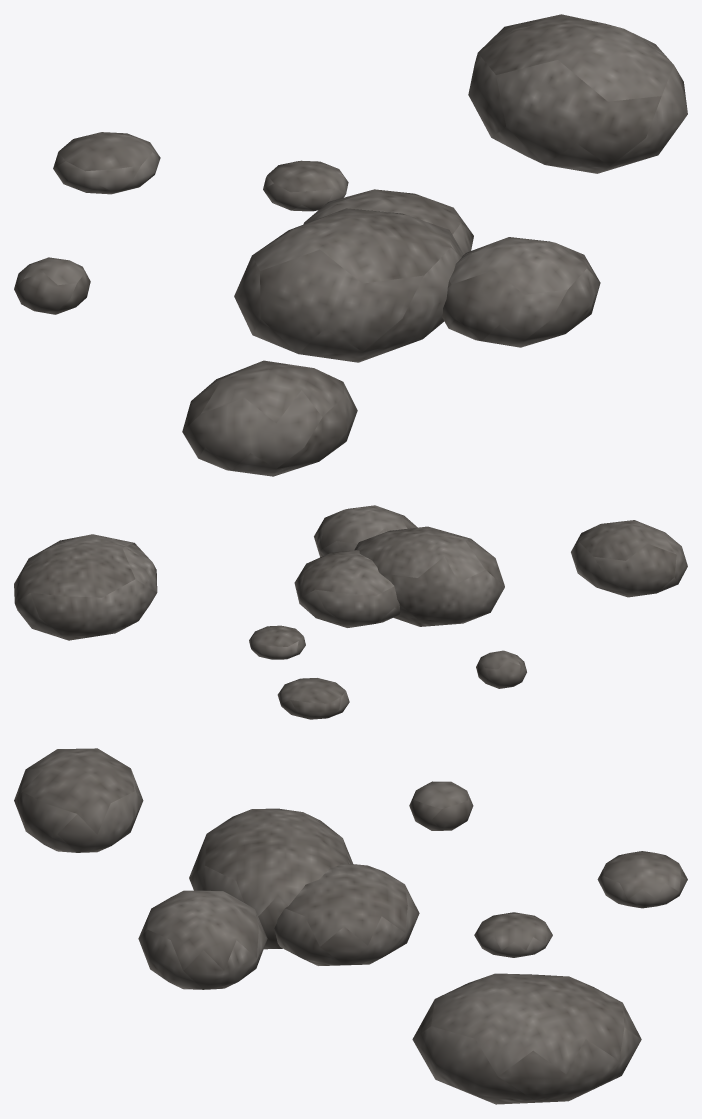
Rendered from pebble_cluster_3.glb.
3 renders of one model, top to bottom at view 1: azimuth 30°, elevation 25°; view 2: azimuth 150°, elevation 25°; view 3: azimuth 270°, elevation 25°, orthographic. The views are drawn at different scales.
Parts seen in each view (by area): view 1: pebble_cluster_3; view 2: pebble_cluster_3; view 3: pebble_cluster_3.
Part boxes in pixels (<box>): pebble_cluster_3: <box>14,14,687,476</box>; pebble_cluster_3: <box>14,505,687,719</box>; pebble_cluster_3: <box>14,748,687,1104</box>.
Bounding box in the file's own units: 1.64 × 0.277 × 1.48.
1 material, 1 textured.
